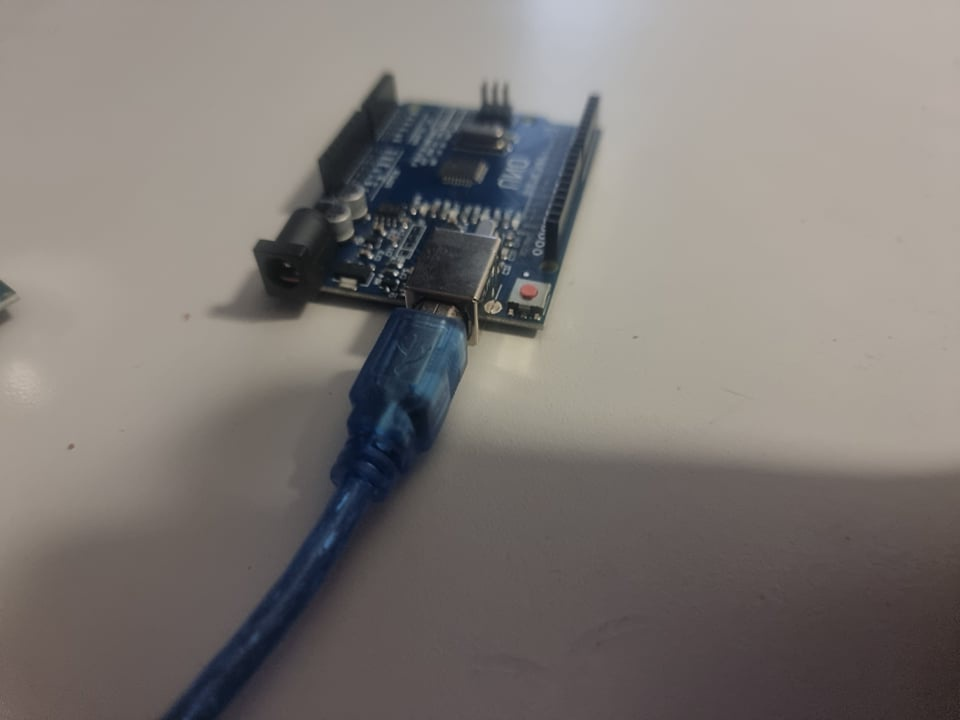UNO R3: (245, 67, 612, 329)
